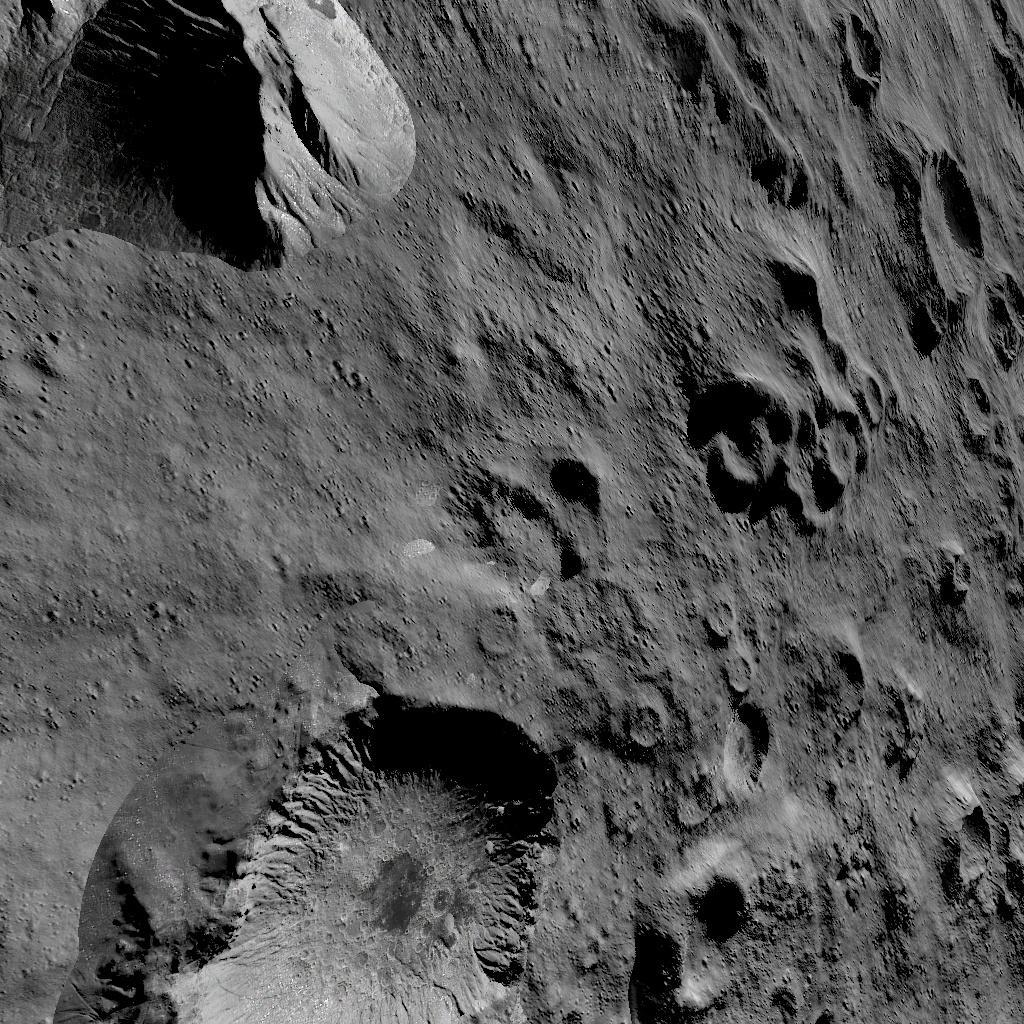Boulders: (0, 0, 421, 281)
Crater: (63, 698, 560, 1024), (857, 156, 1024, 364), (659, 375, 869, 532), (435, 452, 605, 588), (618, 850, 752, 1014), (924, 772, 1024, 962), (684, 596, 765, 793), (723, 244, 821, 348), (789, 646, 860, 734), (808, 18, 876, 104), (987, 620, 1024, 746), (460, 596, 520, 664), (924, 376, 980, 444), (911, 536, 959, 604), (604, 696, 656, 753)
Plan surface: (0, 290, 423, 681), (433, 0, 639, 441)
